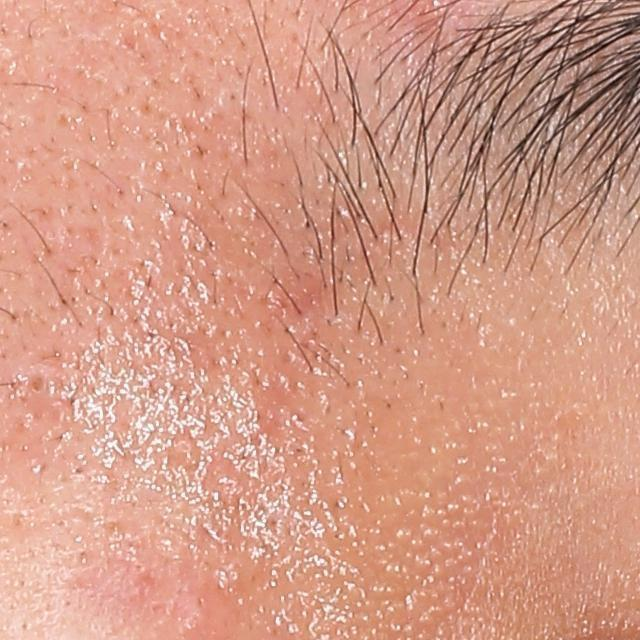comedo: (25, 371, 52, 400)
